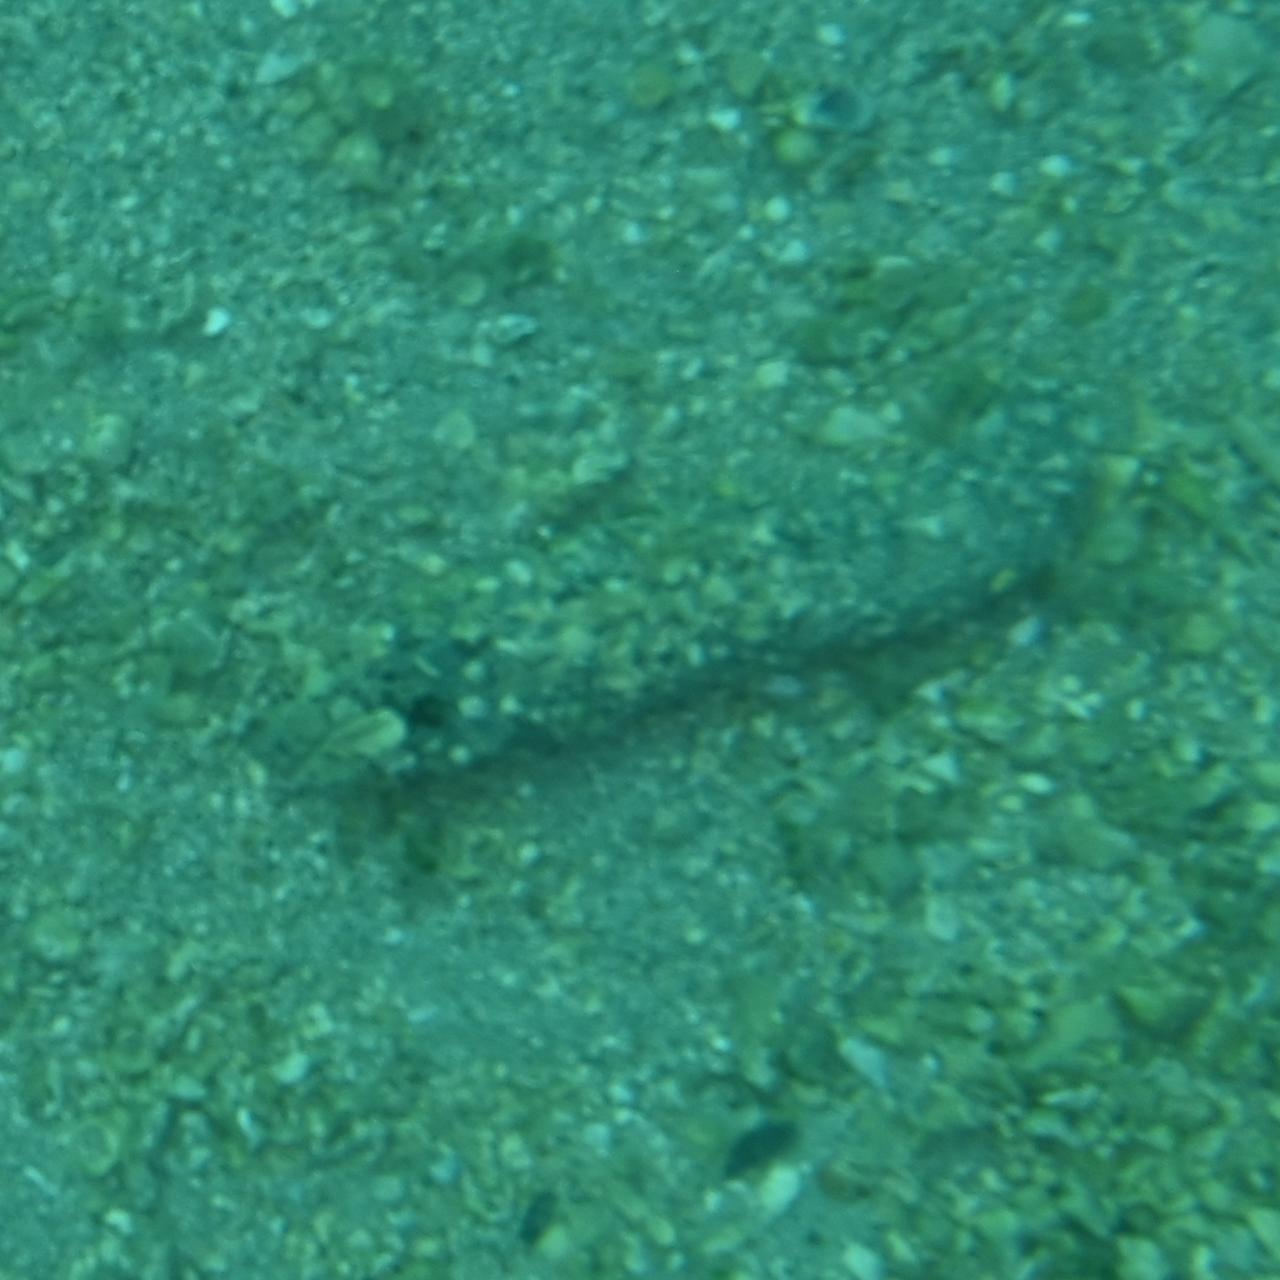Holothuria tubulosa: (203, 455, 1077, 825)
